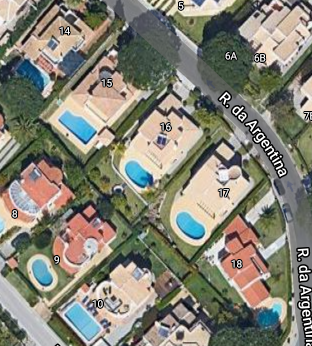pool: (68, 308, 99, 336), (61, 113, 95, 138), (21, 60, 47, 90), (33, 259, 54, 286), (180, 212, 202, 237), (257, 307, 283, 327), (128, 161, 149, 185)
